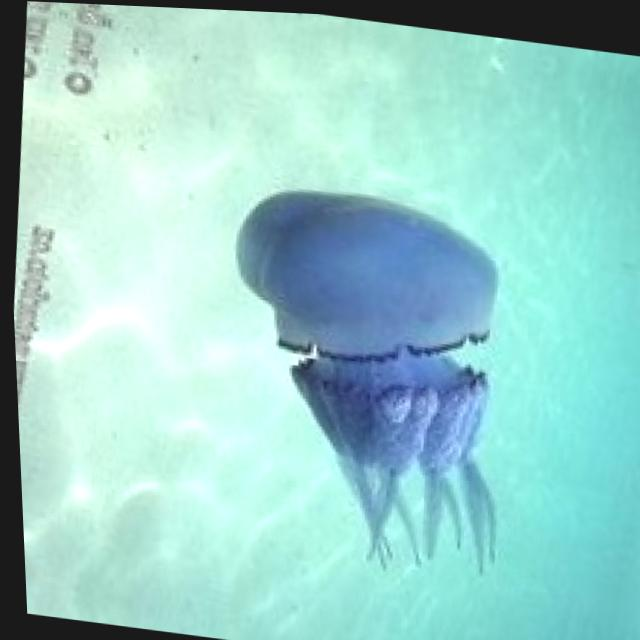Moon-jellyfish: (205, 170, 527, 580)
